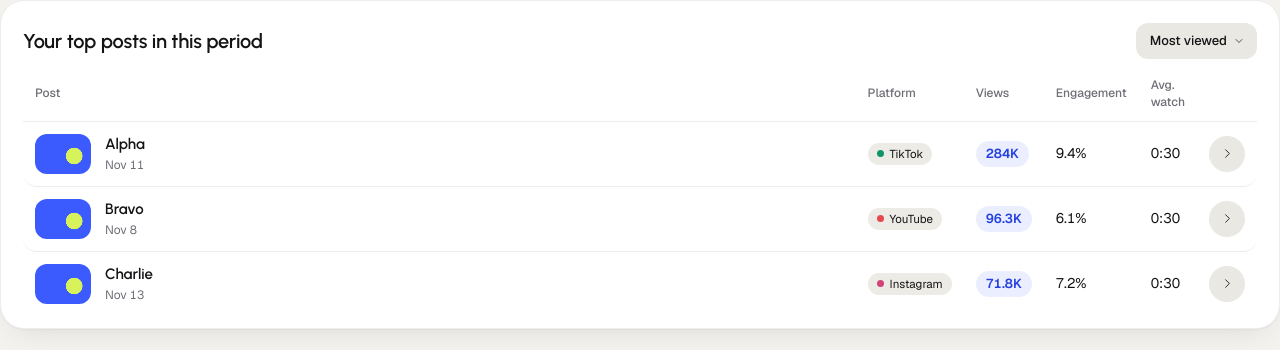
Test: TopPostsTable › closes the menu with Escape
The width and height of the screenshot is (1280, 350).
Click the button "Most viewed" at (1196, 41), box [1136, 23, 1257, 59]
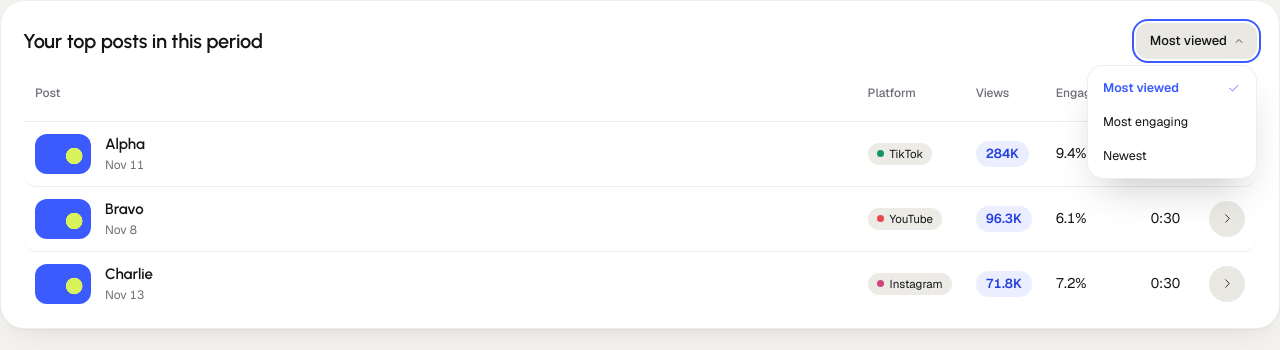
Result: the menu is shown at [1087, 65, 1257, 179]
Press Escape
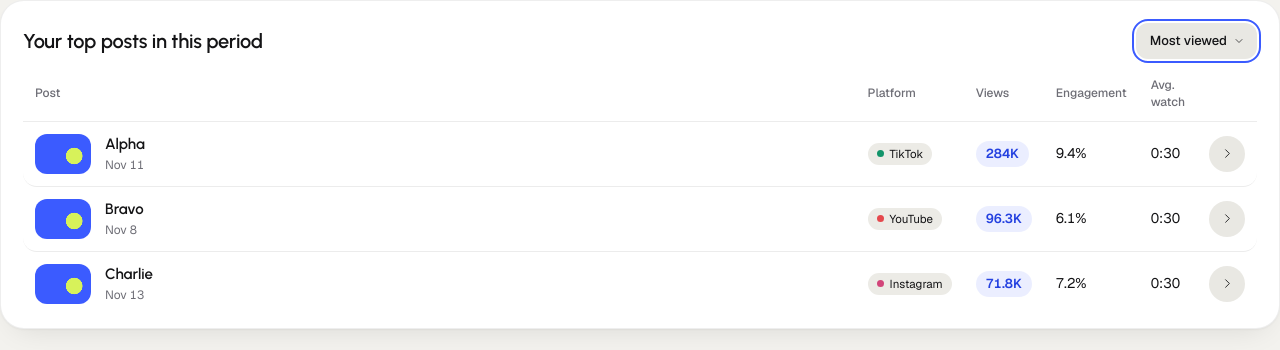
Result: the menu is gone
